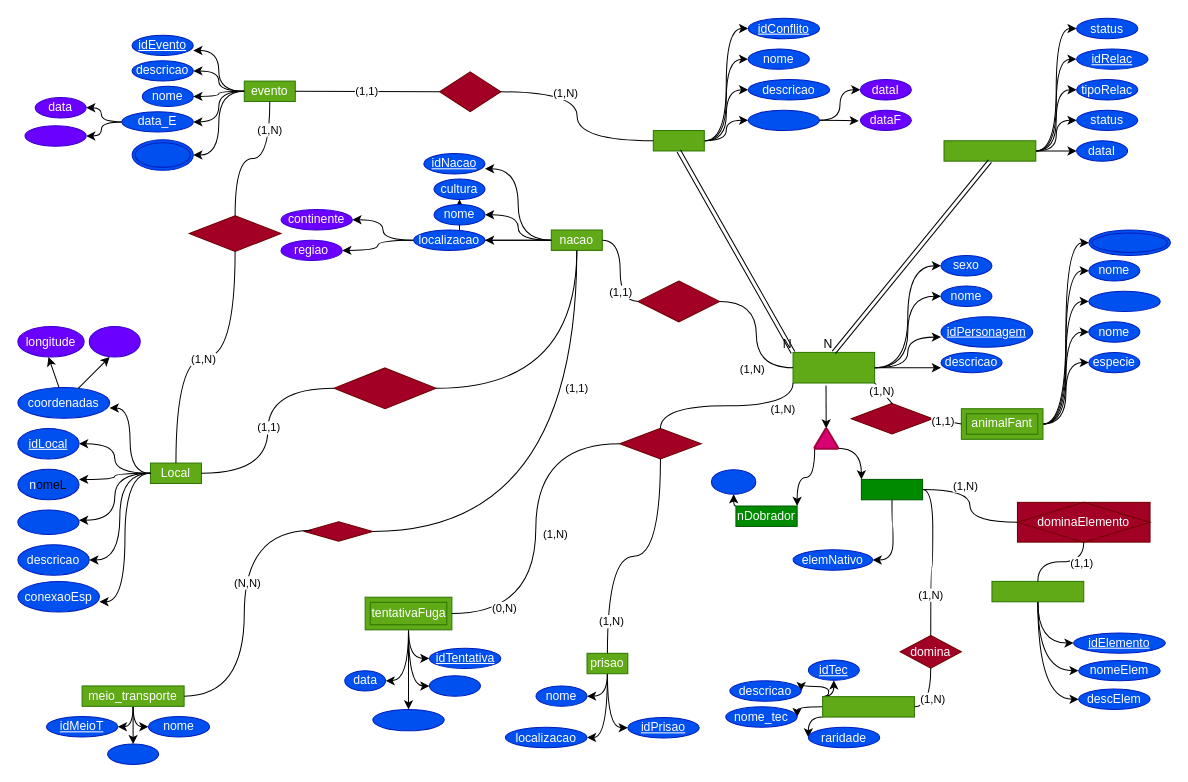
Image size: 1188x782. Some labels were removed from this diagram. The shapes that lost their labels are listed below. From the top down, each one's box as (x1, y1, x2, y2) in pixels, then its label:
(439, 71, 501, 112): ocorre
(24, 125, 86, 146): perDia
(747, 109, 820, 131): perGeral
(131, 139, 193, 170): conseq
(652, 130, 704, 151): conflito
(943, 140, 1036, 161): relacionamento
(188, 215, 281, 251): ocorre em
(1088, 229, 1170, 256): hab_unica
(637, 280, 720, 322): pertence
(1088, 290, 1160, 312): idAnimal
(88, 325, 140, 357): latitude
(792, 351, 875, 383): Personagem
(333, 367, 436, 409): pertence a
(850, 402, 933, 434): possui
(619, 427, 701, 459): tentativa
(710, 469, 756, 494): funcao
(860, 478, 923, 500): Dobrador
(17, 509, 79, 534): tipoL
(303, 521, 373, 541): utiliza
(991, 580, 1084, 602): hab_elemental
(428, 675, 480, 696): metodo
(372, 708, 444, 731): resultado
(822, 696, 914, 717): tecnica_Dobra
(107, 743, 159, 764): tipo
